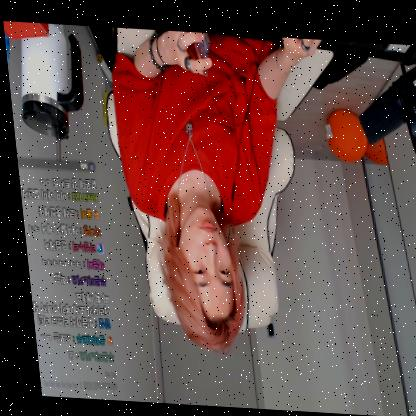streamer: (104, 25, 347, 359)
